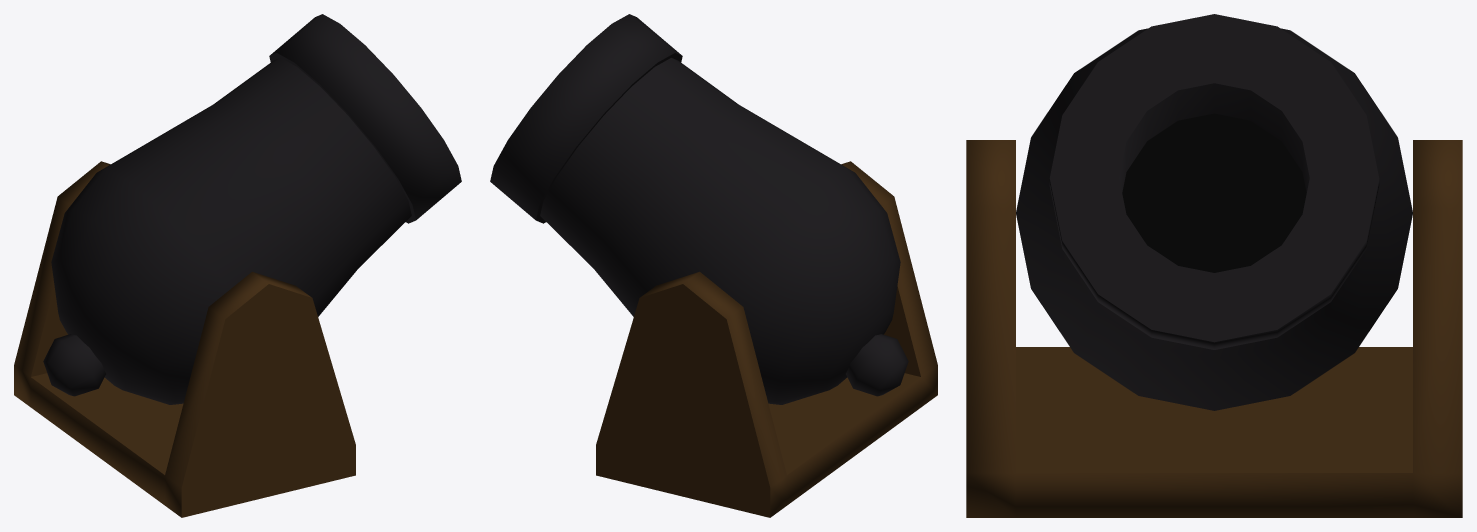
Rendered from CannonMesh.fbx.
3 views of the same model, side by side, from view 1: azimuth 30°, elevation 25°; view 2: azimuth 150°, elevation 25°; view 3: azimuth 270°, elevation 25° (orthographic). The views are drawn at different scales.
Parts seen in each view (by area): view 1: Cube; view 2: Cube; view 3: Cube.
Boxes of the visible parts, <box> form: Cube: <box>14,14,461,517</box>; Cube: <box>490,14,937,517</box>; Cube: <box>966,14,1462,517</box>.
Size of the model in its own units: 668 by 615 by 500.
